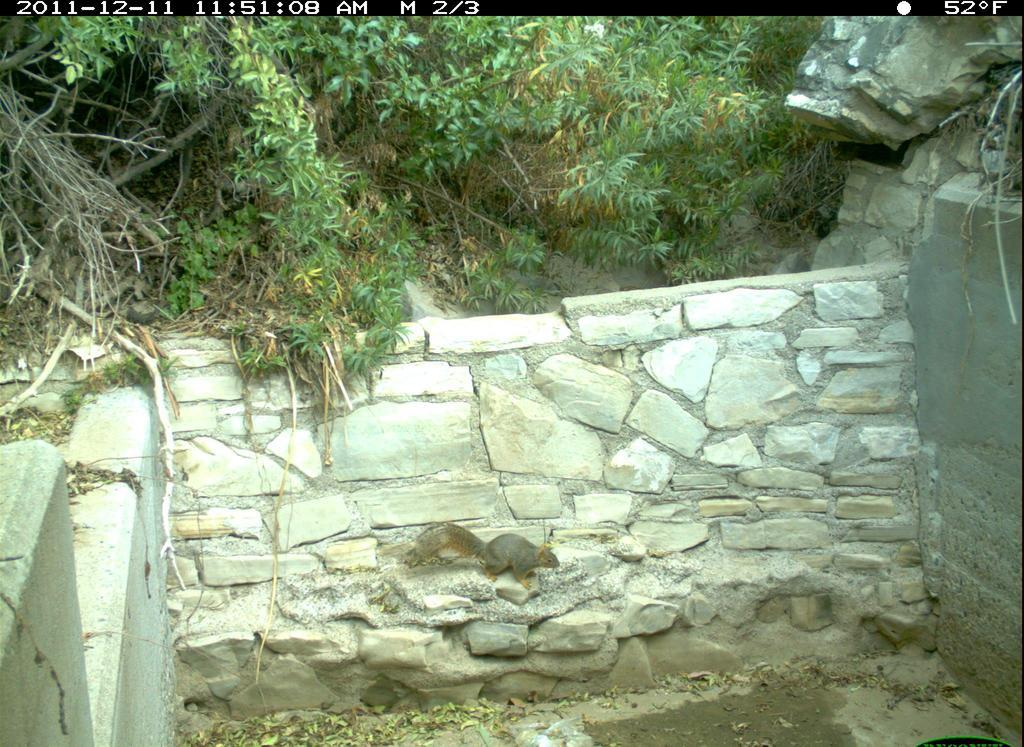squirrel: (397, 510, 579, 601)
